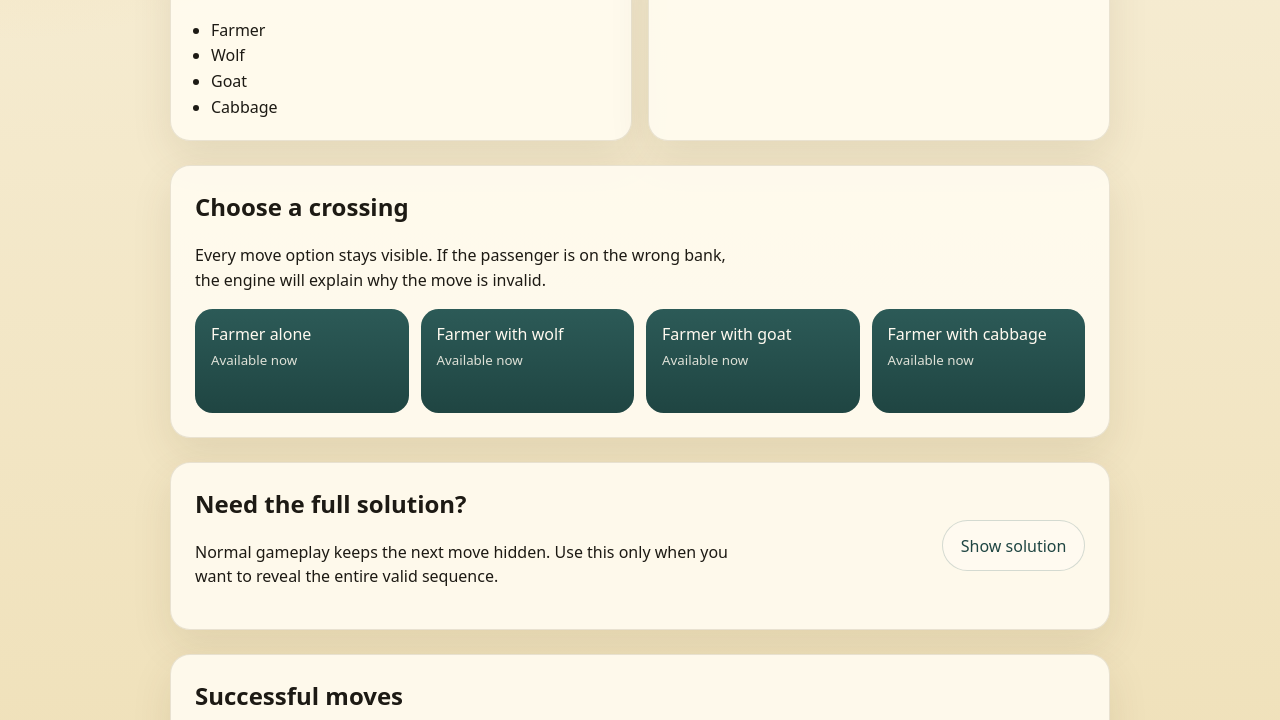
Scenario: App browser gameplay flow › TC-US-02-2 / US-02 AC-2 shows a failed state and explanation after a losing move
(page scrolled)
Click the button "Farmer with wolf Available now".
click(527, 361)  # box [420,309,634,413]
(page scrolled)
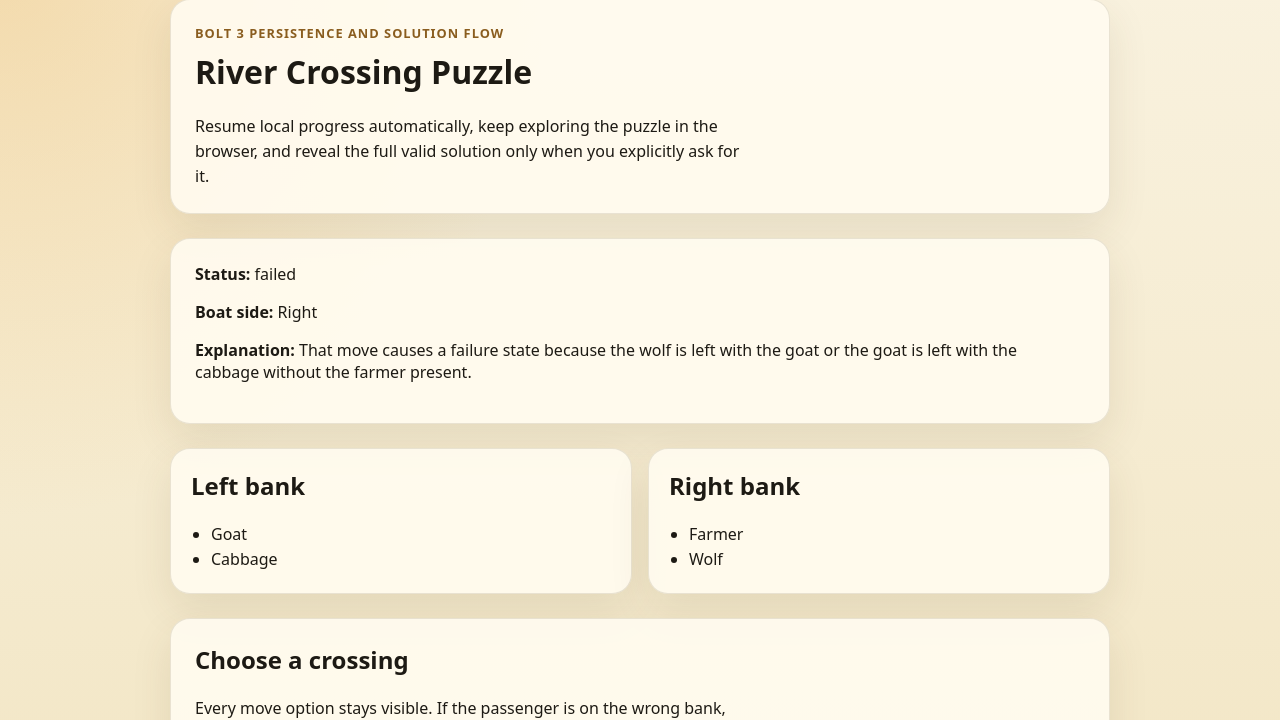
Check: the element named "Puzzle status" shows "failed", box [255,263,296,285]
Check: the text "failure state" is shown, box [195,339,1017,383]
